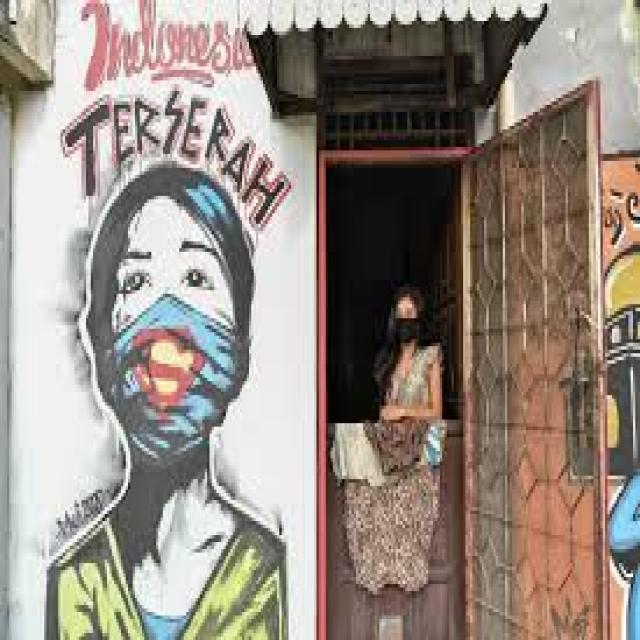-: (47, 3, 290, 640), (600, 178, 640, 640)
